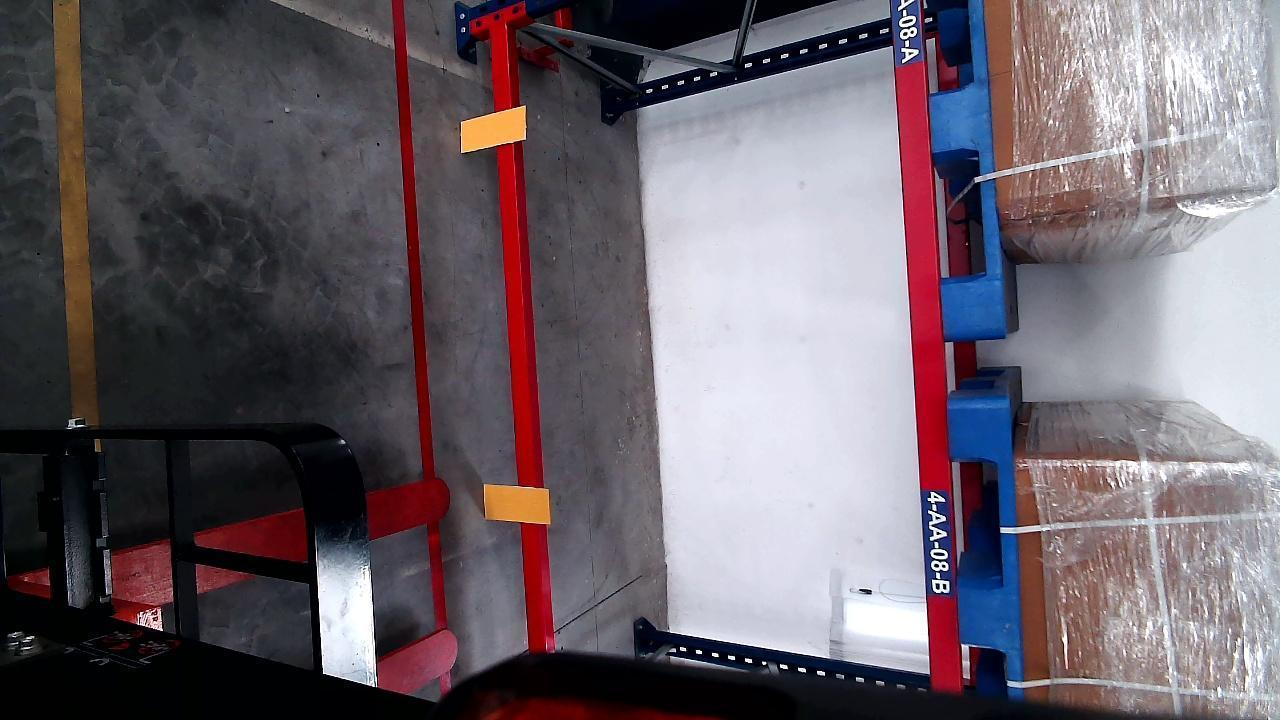h_rack: (483, 20, 556, 650)
orange_strip: (460, 106, 525, 153), (483, 484, 550, 524)
red_line: (386, 0, 436, 496)
small_pallet: (920, 0, 1005, 334), (952, 397, 1021, 692)
yellow_line: (54, 0, 102, 433)
